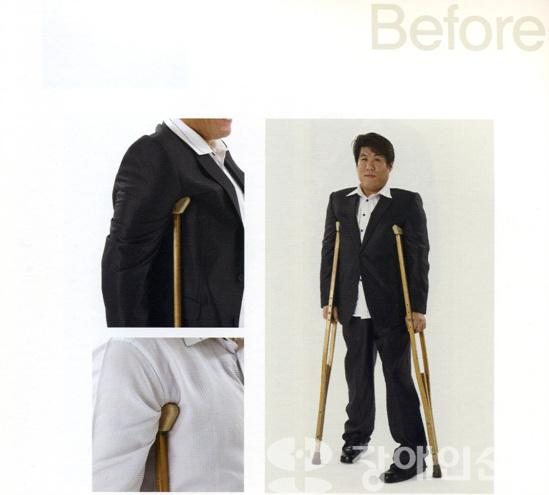crutches: (309, 132, 442, 483)
